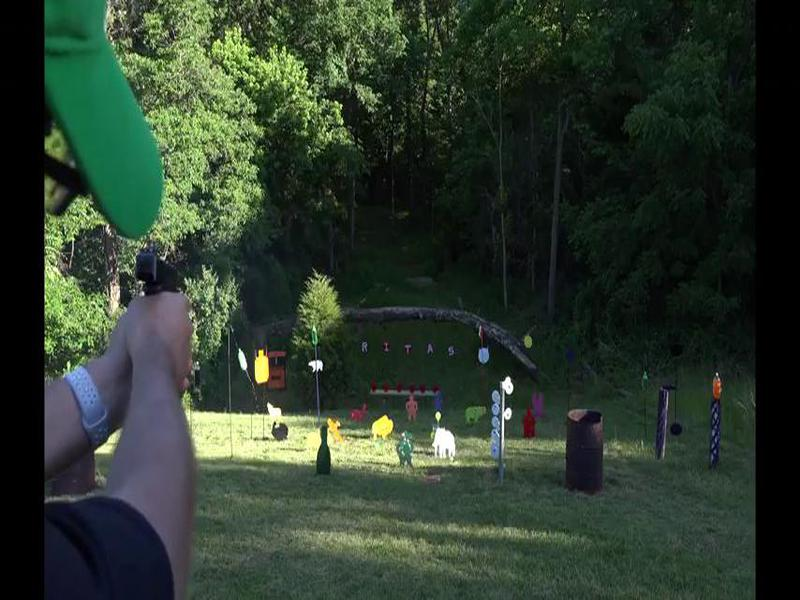Pistola: (119, 240, 205, 325)
